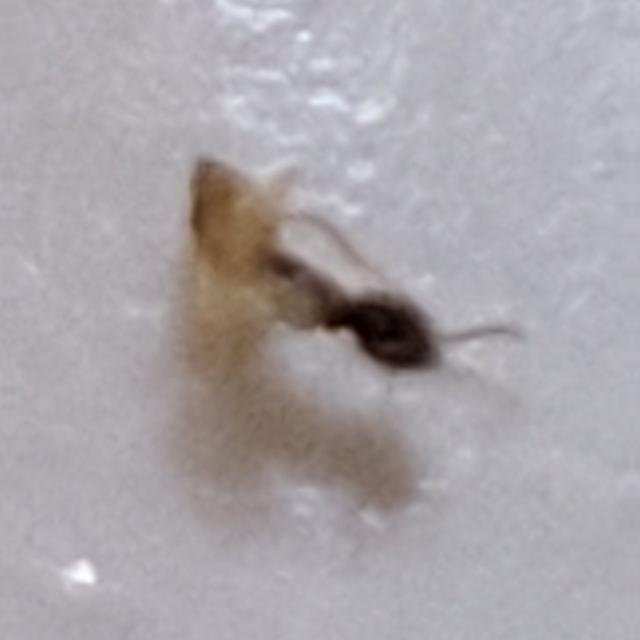Tapinoma: (131, 117, 499, 433)
